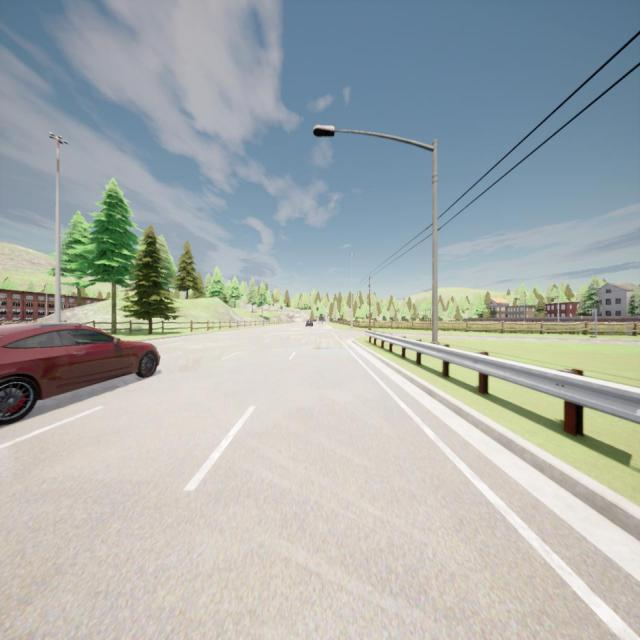Vehicle: (0, 324, 160, 424), (305, 319, 313, 327), (317, 318, 323, 324)
